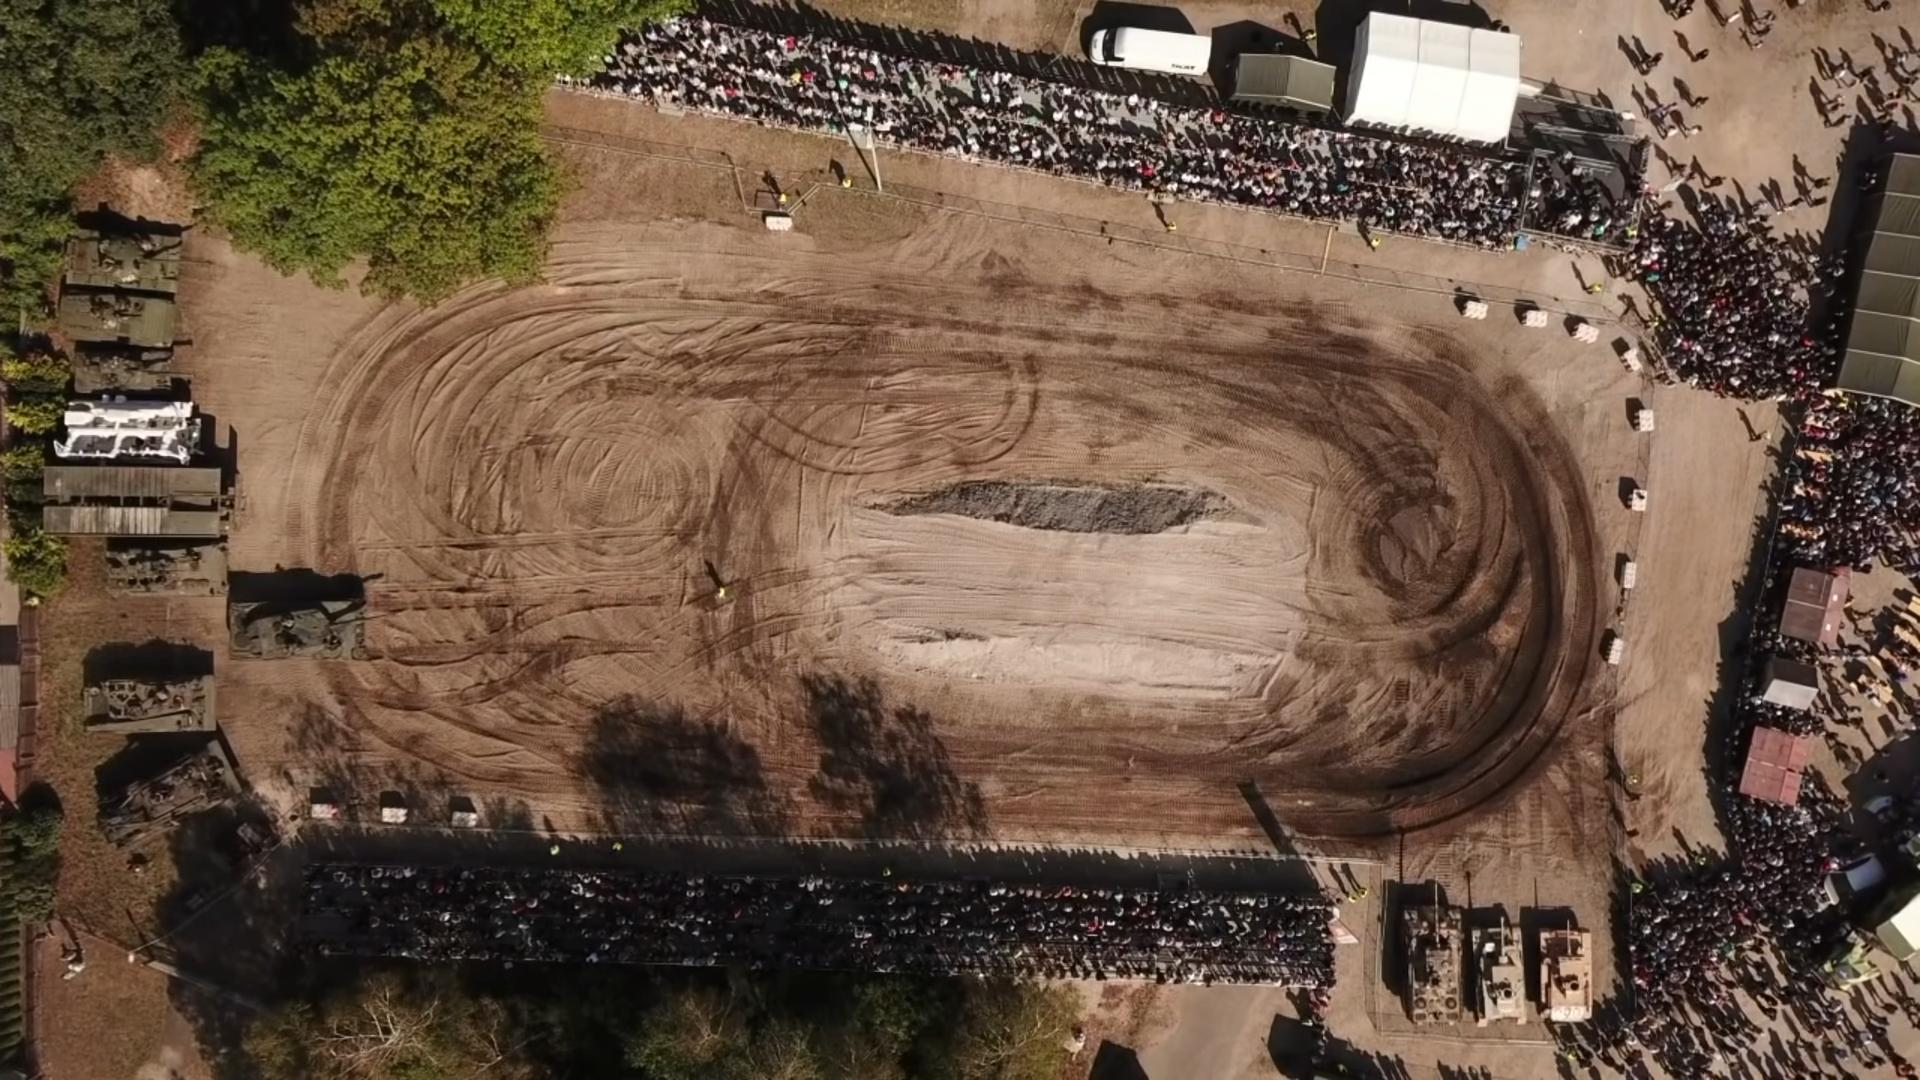tank: (229, 600, 388, 661), (66, 231, 211, 293), (1403, 880, 1464, 1026), (1472, 918, 1526, 1026), (74, 347, 195, 393), (1540, 920, 1592, 1022)
